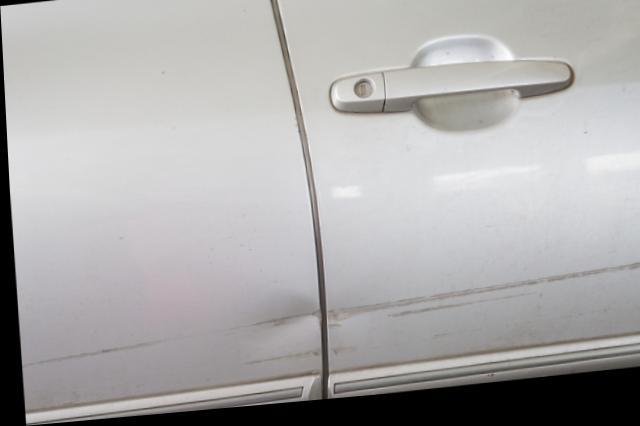dent: (237, 300, 316, 353)
scratch: (323, 272, 640, 339), (17, 340, 158, 372)
